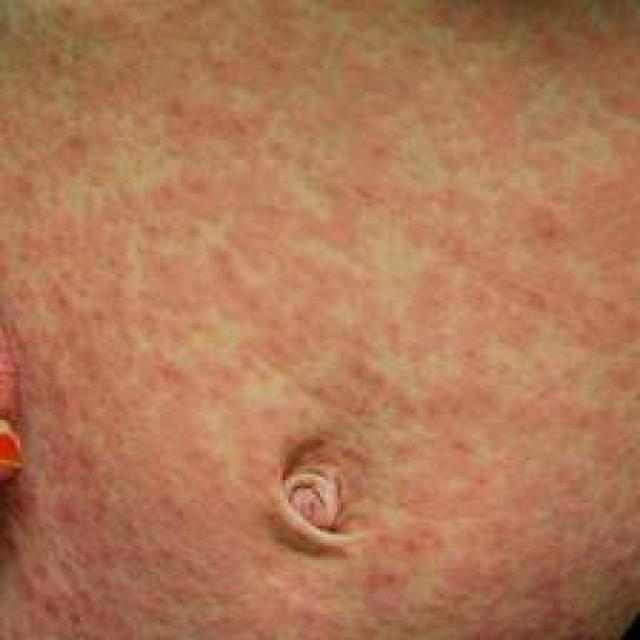others: (0, 0, 620, 631)
